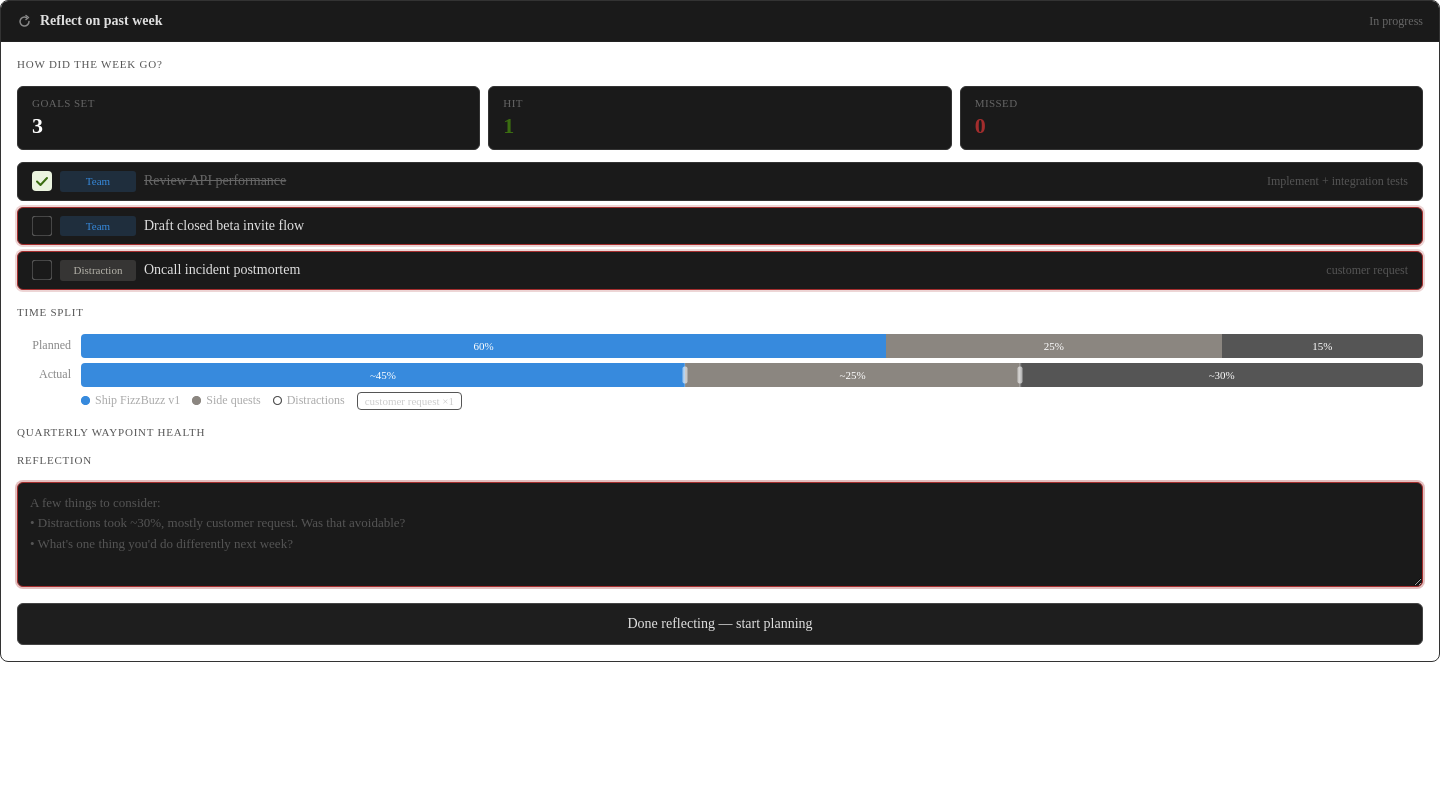
Scenario: ReflectSection › Done reflecting blocked when goals unmarked
This screenshot has width=1440, height=810.
// Fill notes but don't mark goals
Replace the text in the text box with class "reflection-notes__textarea" with "Notes" at [720, 534], box [17,482,1423,587]
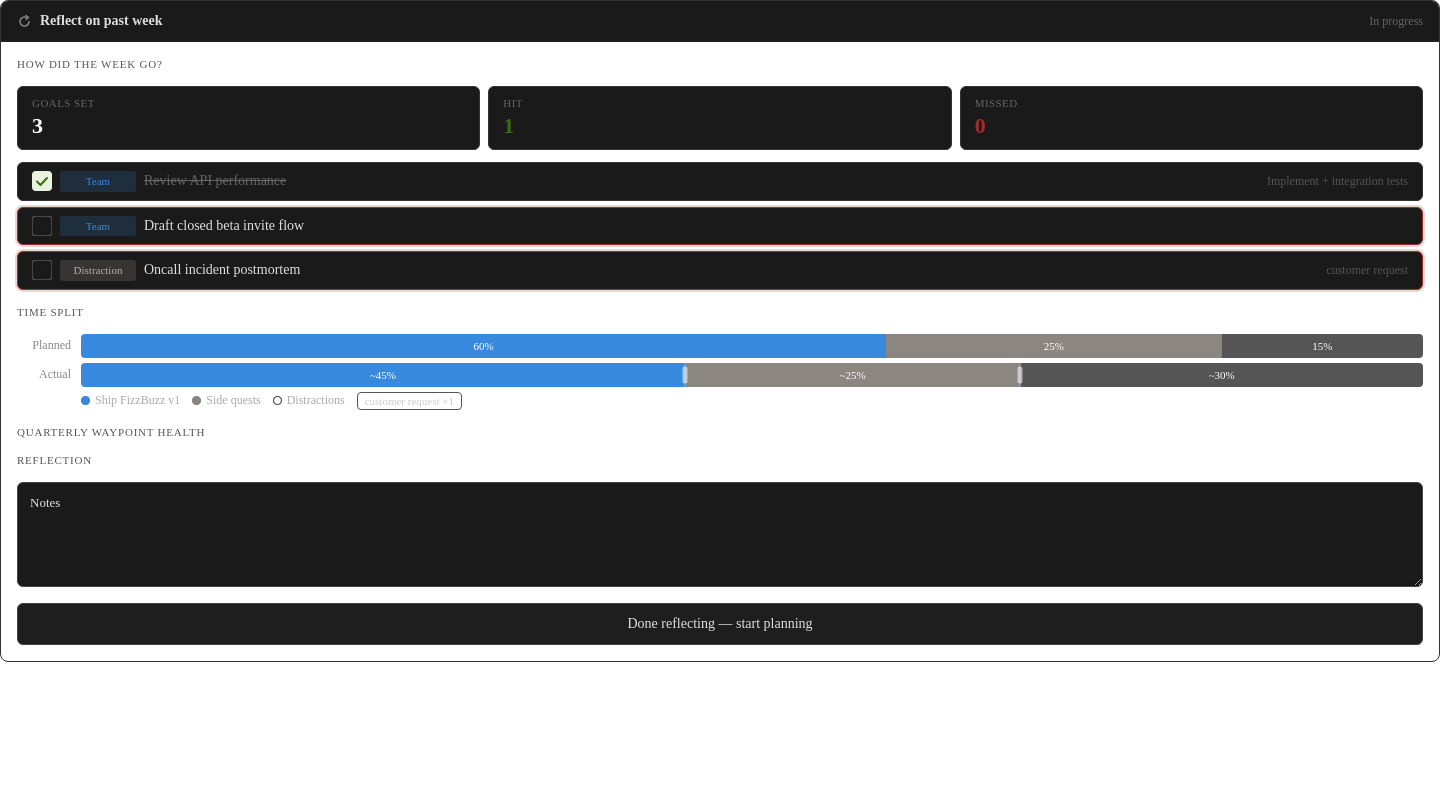
Click the button "Done reflecting — start planning" at [720, 624], box [17,603,1423,645]
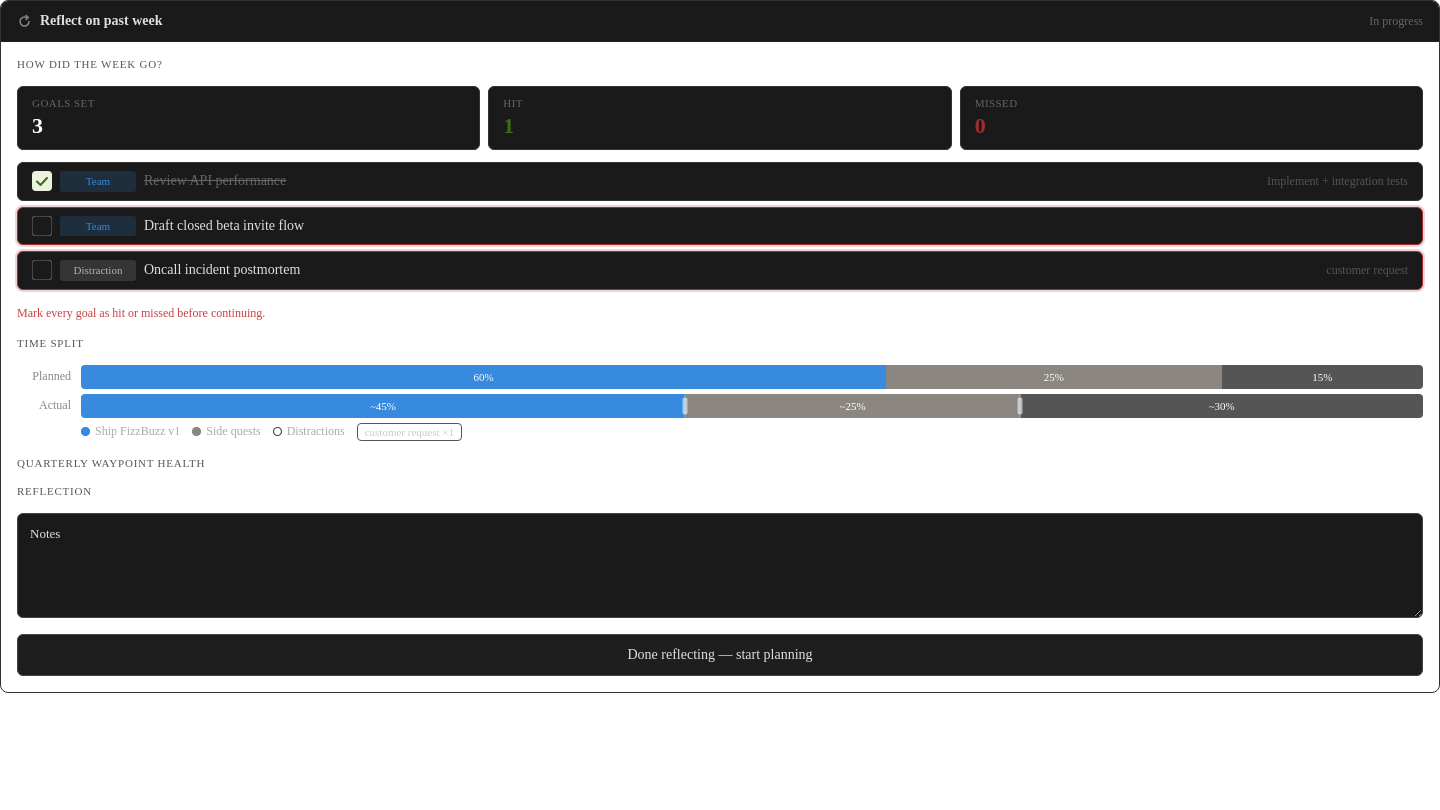
Expected: the text "Mark every goal as hit or missed before continuing." is shown, [17,306,265,320]
